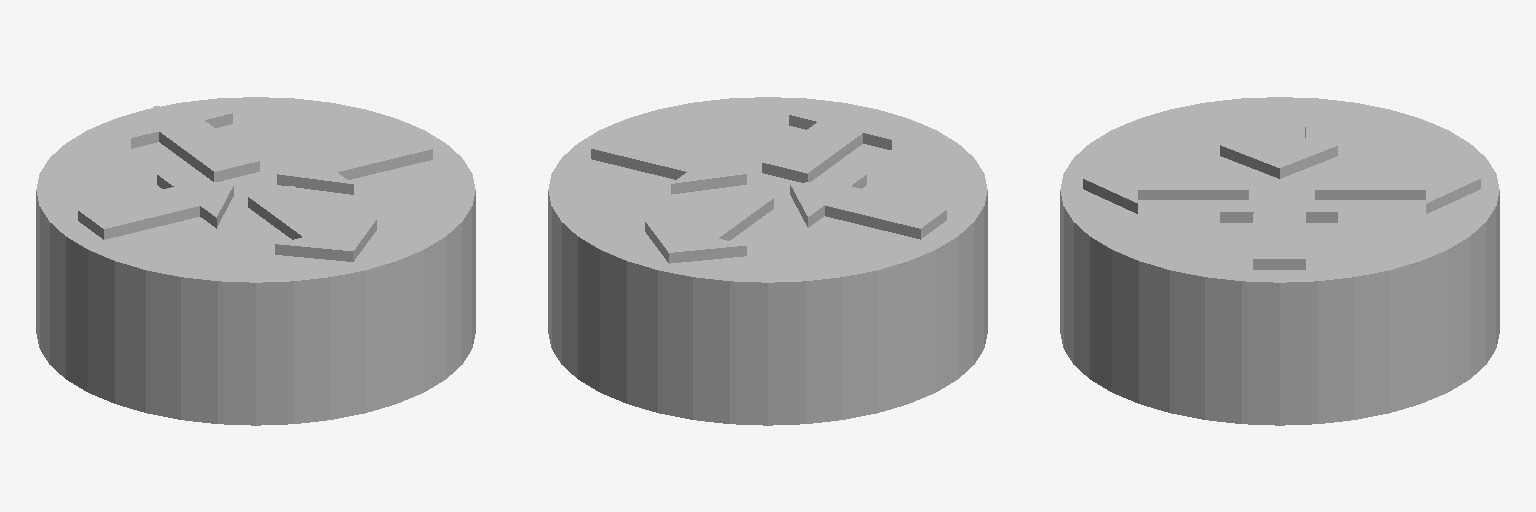
File: putongluyouqi.obj
3 views of the same model, side by side, from view 1: azimuth 30°, elevation 25°; view 2: azimuth 150°, elevation 25°; view 3: azimuth 270°, elevation 25° (orthographic).
Parts seen in each view (by area): view 1: putongluyouqi; view 2: putongluyouqi; view 3: putongluyouqi.
Boxes of the visible parts, x1,y1,x2,y2 form: putongluyouqi: [36, 97, 475, 425]; putongluyouqi: [548, 97, 987, 425]; putongluyouqi: [1060, 97, 1499, 425].
Bounding box in the file's own units: 40.09 × 15.46 × 40.09.